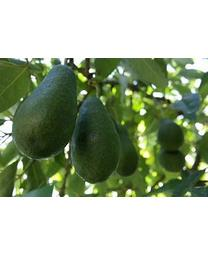avocado: (11, 63, 82, 159), (70, 90, 123, 185)
